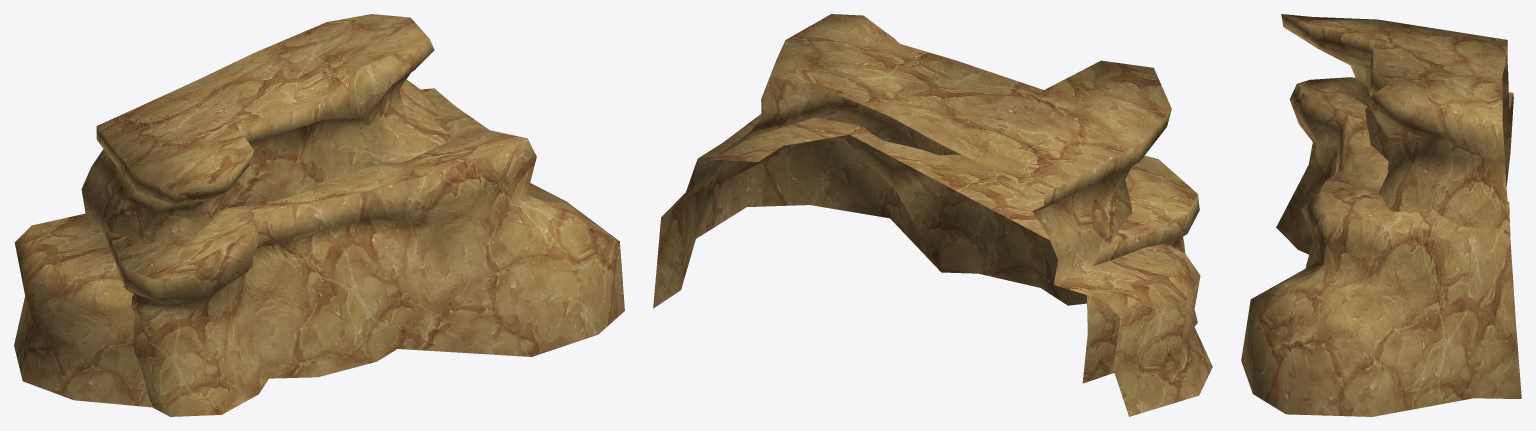
File: environment_stone_shanti_001_a.FBX
3 renders of one model, left to right at view 1: azimuth 30°, elevation 25°; view 2: azimuth 150°, elevation 25°; view 3: azimuth 270°, elevation 25°, orthographic. The views are drawn at different scales.
Parts seen in each view (by area): view 1: environment_stone_shanti_001_a; view 2: environment_stone_shanti_001_a; view 3: environment_stone_shanti_001_a.
Boxes of the visible parts, bbox=[...] form: environment_stone_shanti_001_a: bbox=[14, 14, 624, 416]; environment_stone_shanti_001_a: bbox=[653, 14, 1212, 416]; environment_stone_shanti_001_a: bbox=[1241, 14, 1521, 416].
Bounding box in the file's own units: 1458 × 698 × 713.
Materials: 1 (1 with a texture image).
